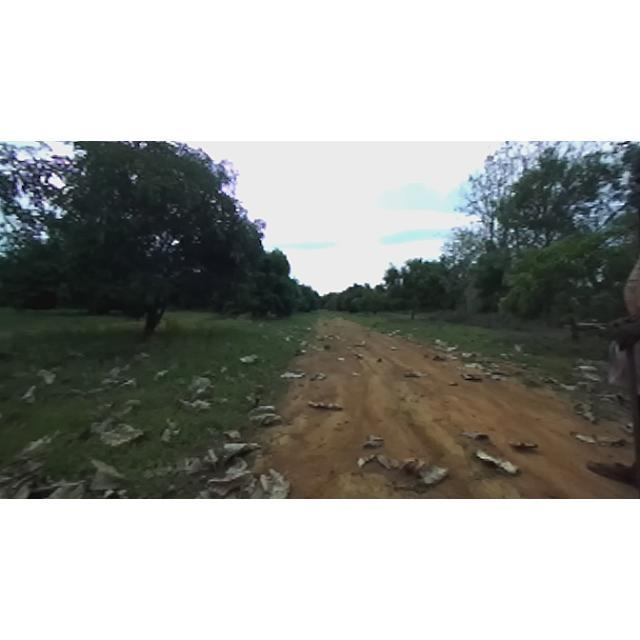direk: (6, 142, 282, 342), (498, 159, 622, 341), (492, 233, 616, 354), (468, 144, 526, 338), (210, 238, 308, 330), (370, 255, 456, 327)
